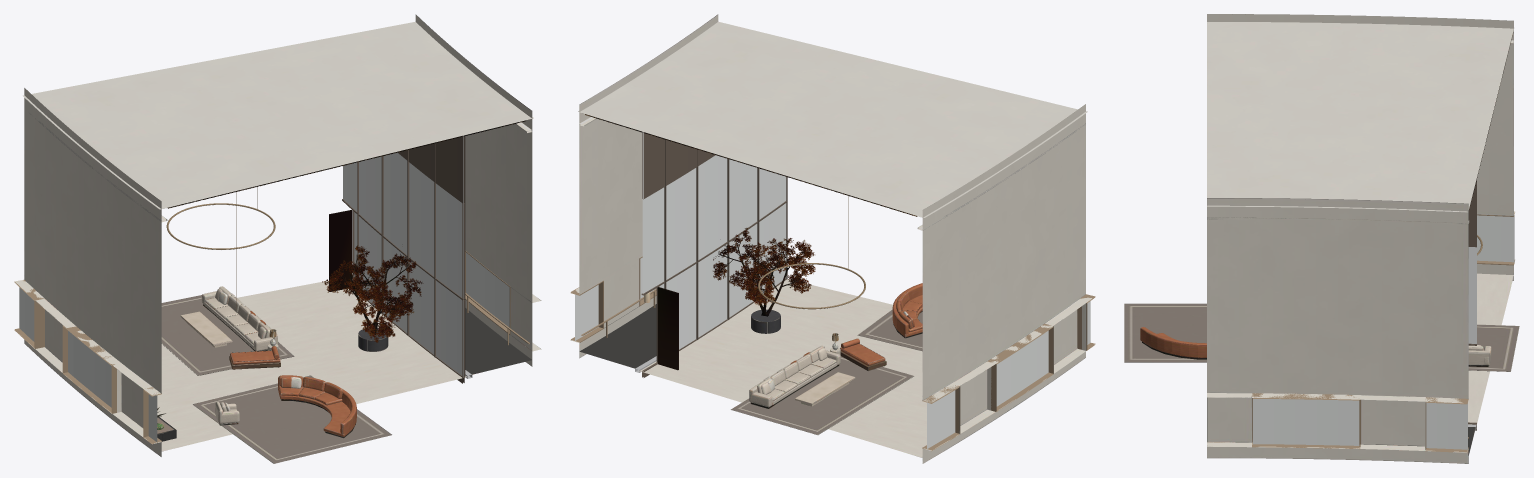
3 renders of one model, left to right at view 1: azimuth 30°, elevation 25°; view 2: azimuth 150°, elevation 25°; view 3: azimuth 270°, elevation 25°, orthographic. The views are drawn at different scales.
Visible parts, largest first — view 1: c2700, c2700 leaves; view 2: c2700, c2700 leaves; view 3: c2700.
Boxes of the visible parts, x1,y1,x2,y2 form: c2700: [14, 14, 541, 463]; c2700 leaves: [157, 120, 526, 423]; c2700: [570, 14, 1095, 463]; c2700 leaves: [585, 114, 917, 370]; c2700: [1124, 14, 1519, 463].
Bounding box in the file's own units: 21.67 × 13.2 × 18.17.
Materials: 11 (1 with a texture image).
